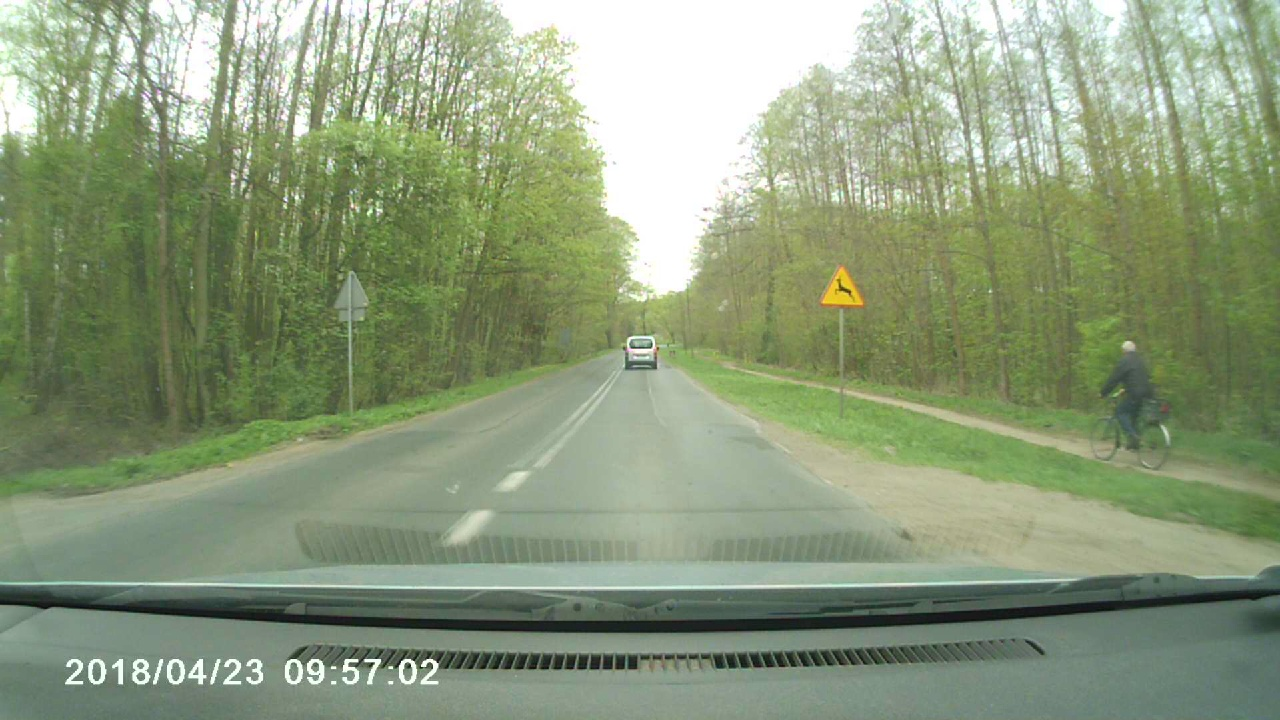A18b: (821, 265, 866, 308)
